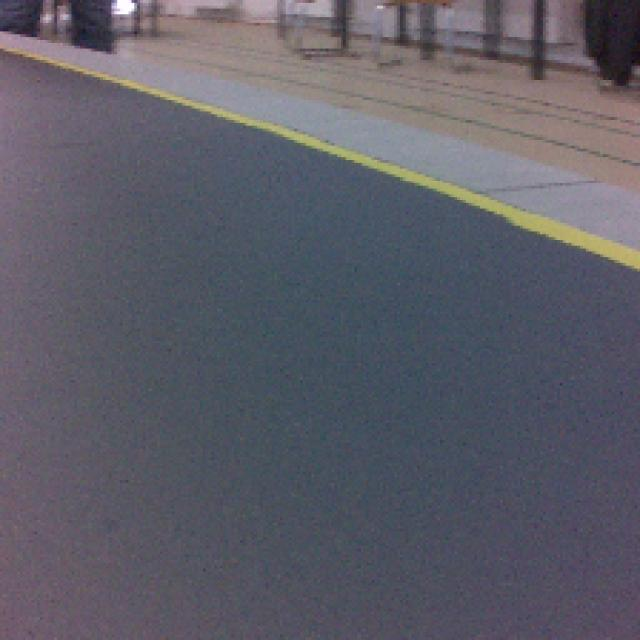Road: (4, 411, 635, 640)
